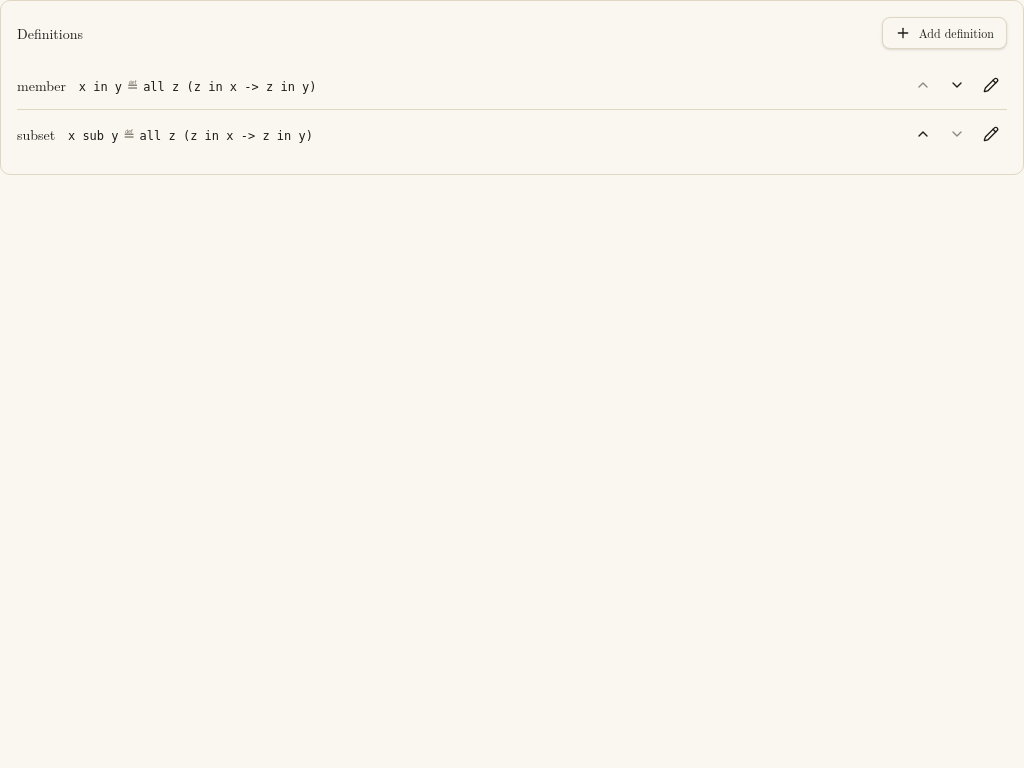
it: DefinitionsSection layering › names the layering picker, which a combobox cannot take from its contents
Click the 6th button named "Edit " at (991, 134), box [975,118,1007,150]
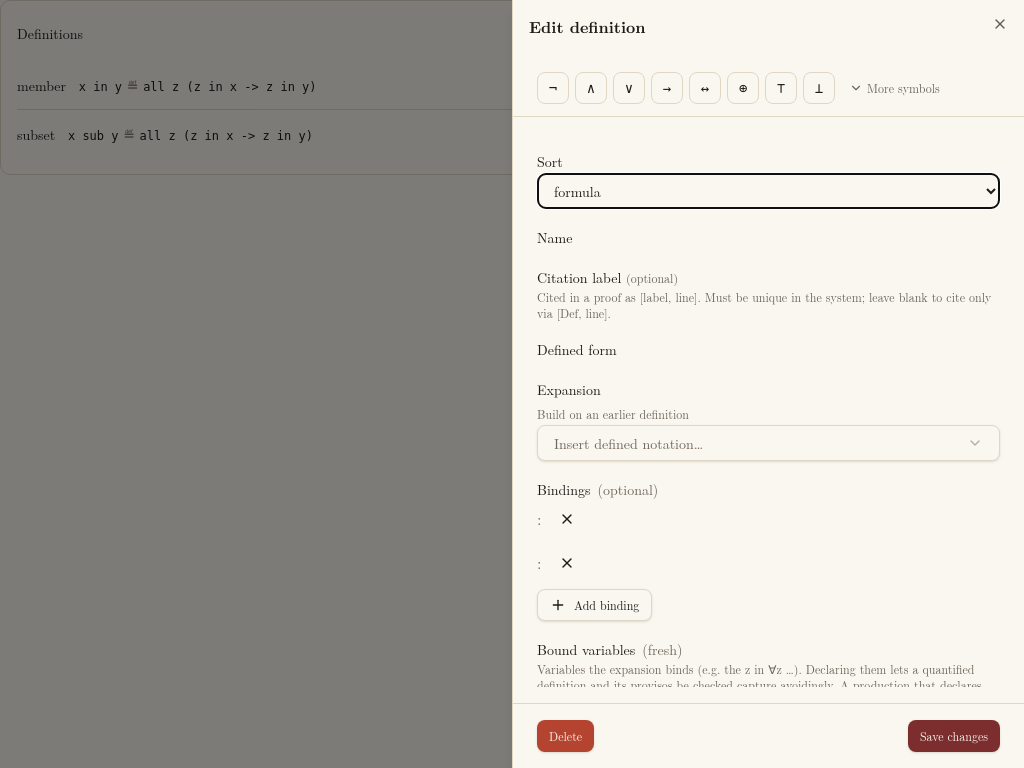
expect the dropdown named "Build on an earlier definition" is shown: met, box [537,425,1000,461]
